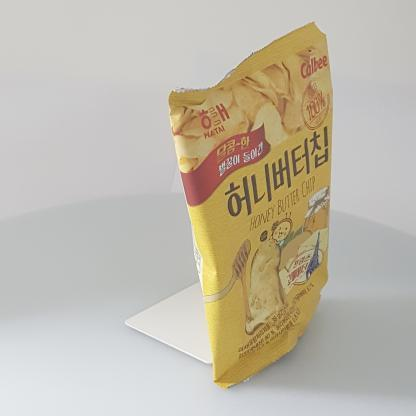Plastic Packaging: (161, 14, 349, 394)
